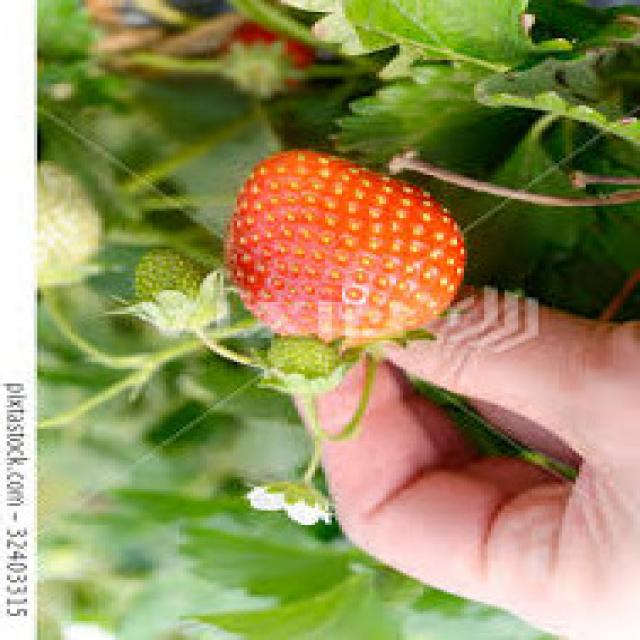mature: (221, 148, 468, 349)
